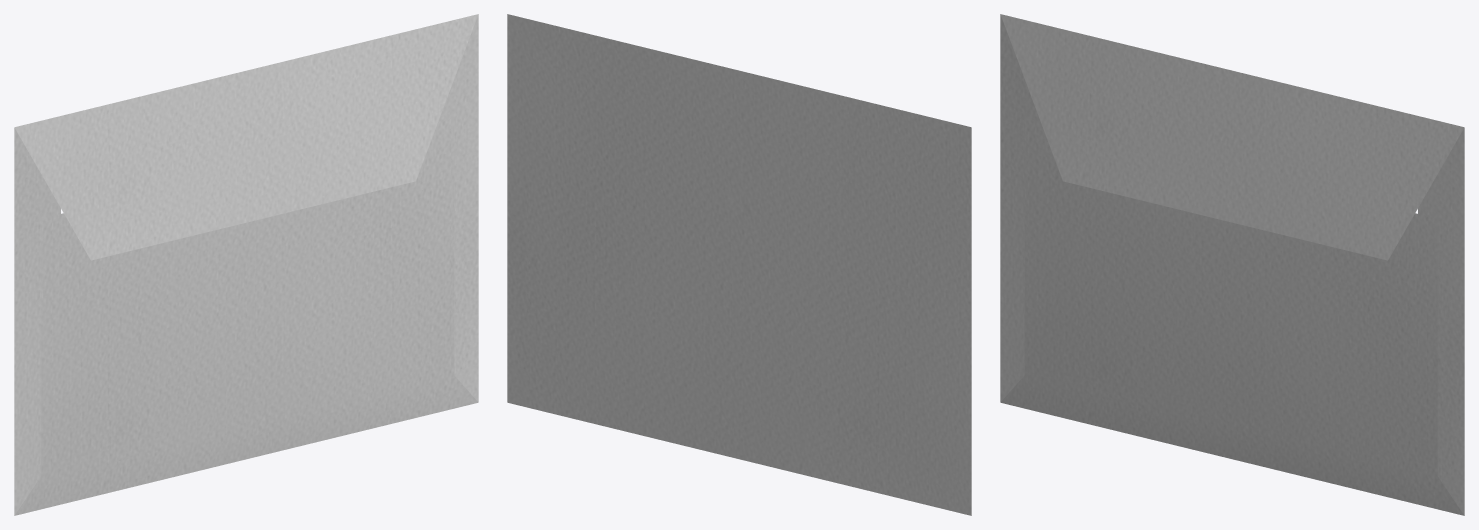
Rendered from Letter.glb.
3 views of the same model, side by side, from view 1: azimuth 30°, elevation 25°; view 2: azimuth 150°, elevation 25°; view 3: azimuth 330°, elevation 25° (orthographic).
Parts seen in each view (by area): view 1: grid1; view 2: grid1; view 3: grid1.
Boxes of the visible parts, x1,y1,x2,y2 form: grid1: [14, 14, 478, 515]; grid1: [507, 14, 971, 515]; grid1: [1000, 14, 1464, 515].
Bounding box in the file's own units: 1 × 0.8 × 0.0271.
Materials: 1 (1 with a texture image).
